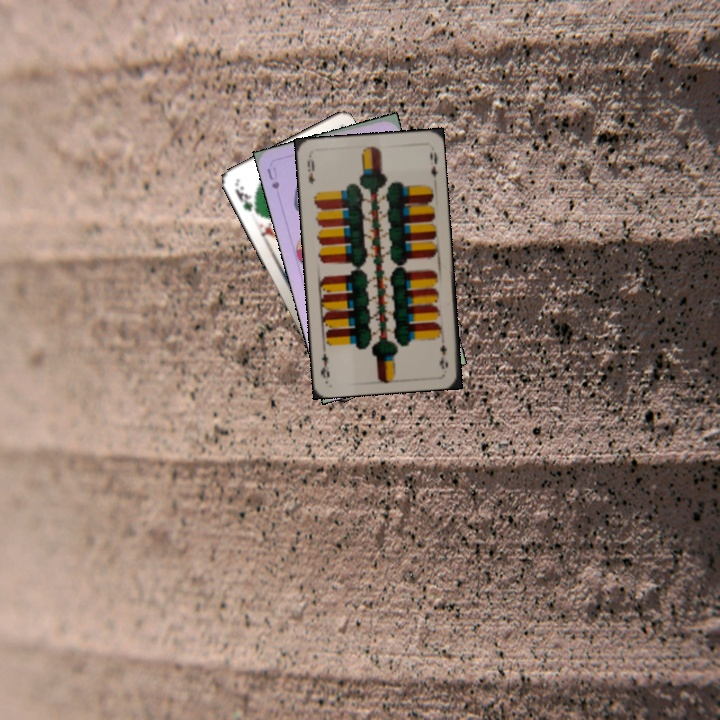E9: (435, 341, 450, 372), (303, 155, 317, 186)
GK: (231, 181, 261, 216)
SU: (263, 163, 282, 192)
